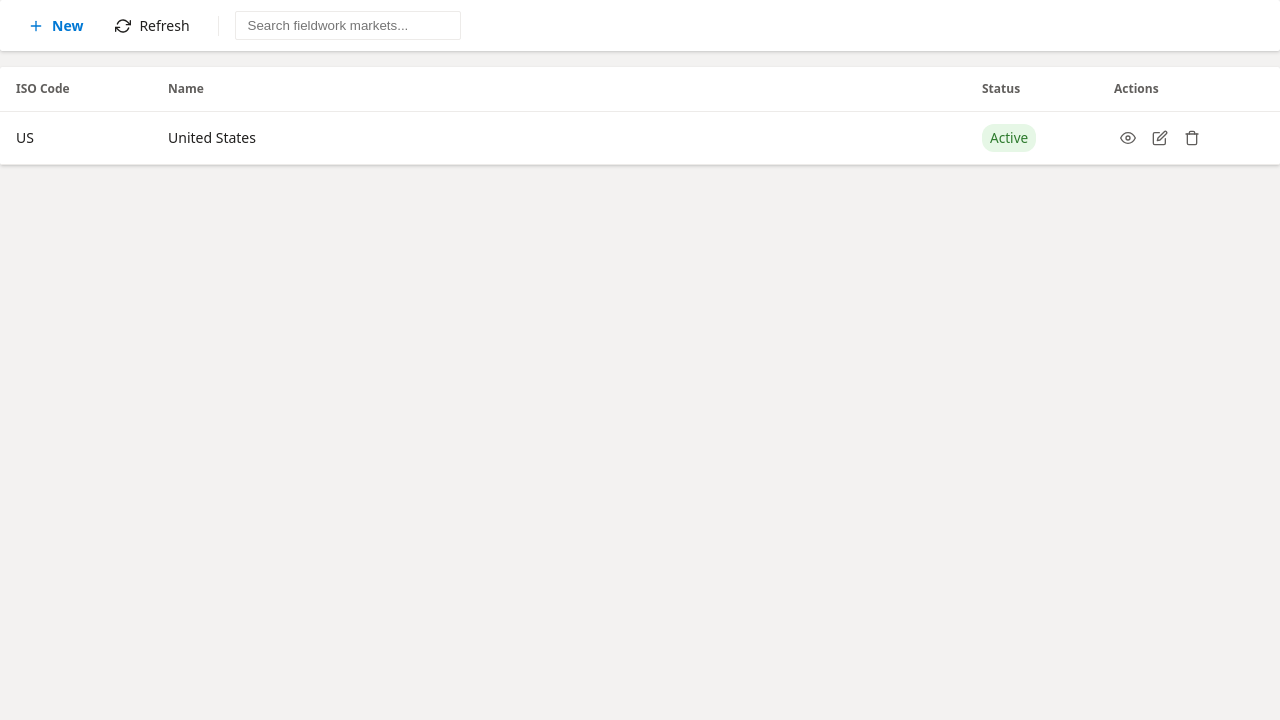
Test: FieldworkMarketsPage › opens view details when row is clicked
The image size is (1280, 720).
Click the text "United States". click: (559, 138)
box: [152, 112, 966, 164]
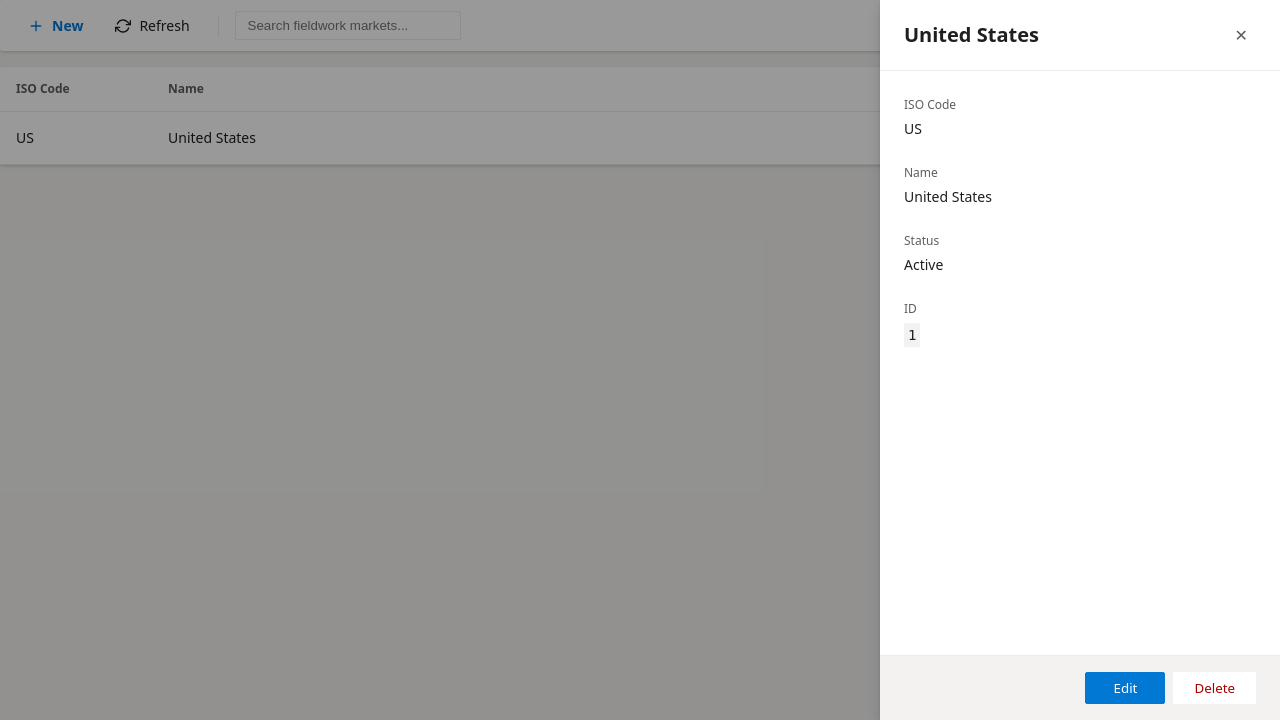
Expected: the heading "United States" is shown, [904, 25, 1039, 45]
